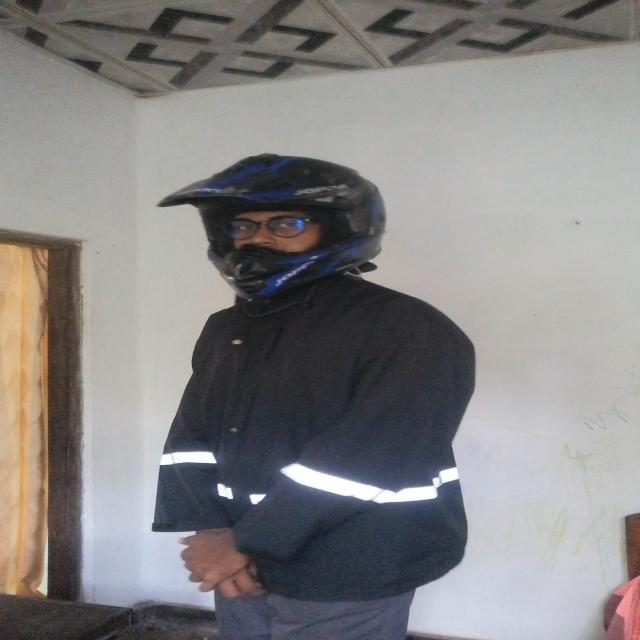Helmet_Wearer: (158, 151, 386, 294)
Jacket_Wearer: (162, 279, 472, 583)
Person: (140, 147, 472, 634)
